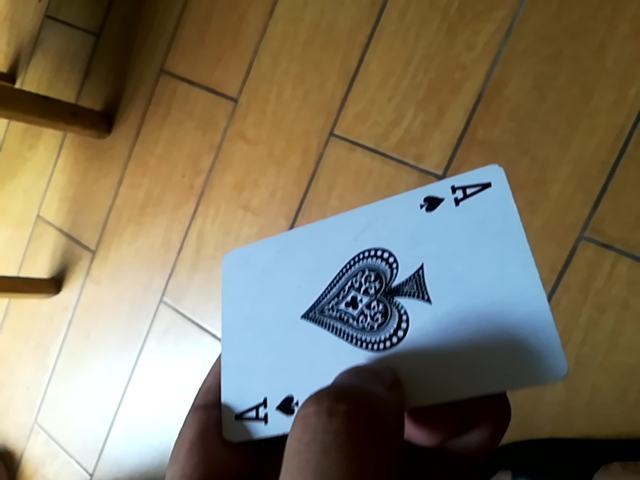ht a: (223, 165, 551, 434)
